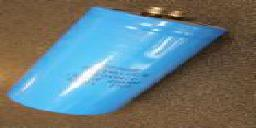Electrolytic-Capacitor: (18, 4, 231, 128)
